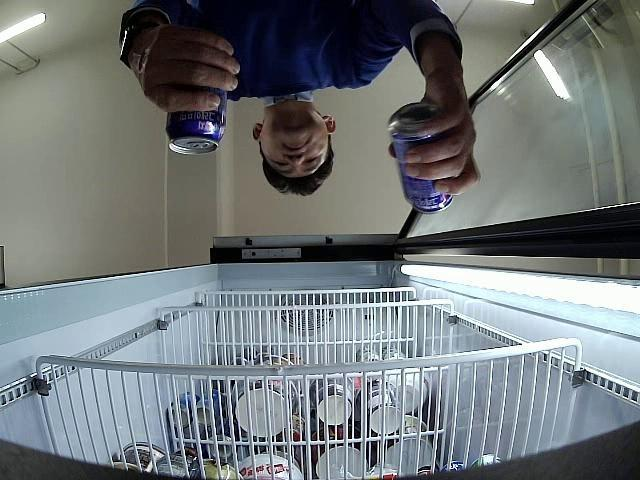14_welchsGrape: (387, 102, 453, 214), (166, 80, 227, 154)
